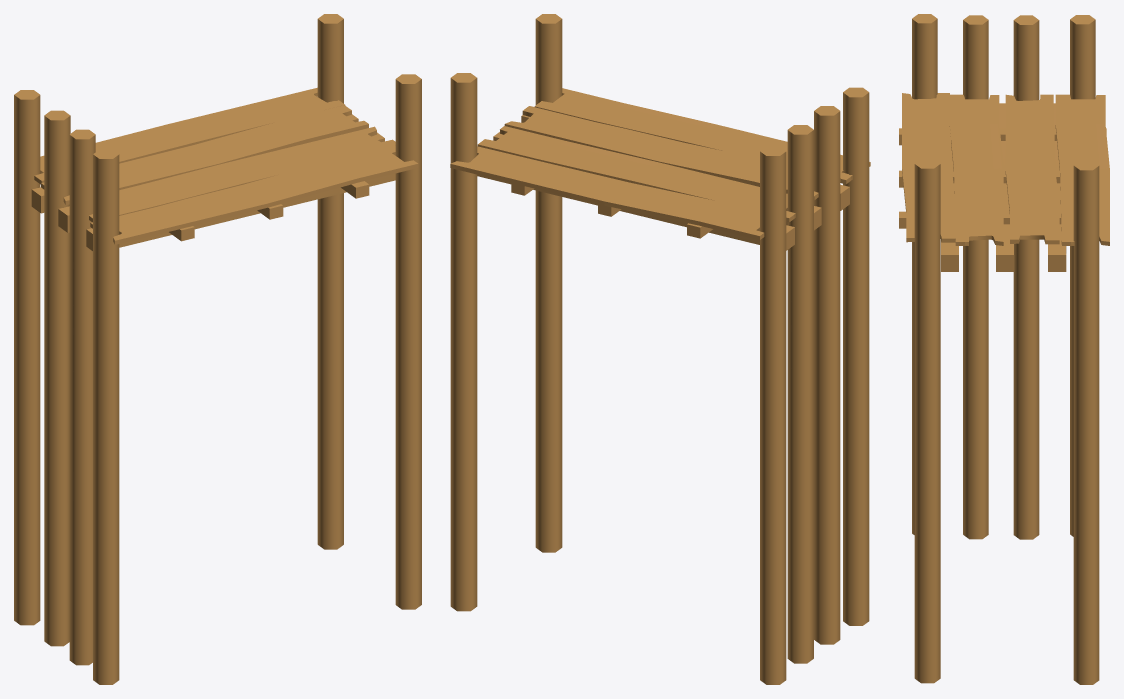
File: Dock_Open.fbx
The picture shows the model from 3 angles, left to right: view 1: azimuth 30°, elevation 25°; view 2: azimuth 150°, elevation 25°; view 3: azimuth 270°, elevation 25°; orthographic projection. The views are drawn at different scales.
Parts seen in each view (by area): view 1: Wooden Dock Piece (OPEN); view 2: Wooden Dock Piece (OPEN); view 3: Wooden Dock Piece (OPEN).
Part boxes in pixels (bbox=[...]): Wooden Dock Piece (OPEN): bbox=[14, 14, 421, 684]; Wooden Dock Piece (OPEN): bbox=[450, 14, 870, 684]; Wooden Dock Piece (OPEN): bbox=[899, 14, 1109, 684].
Size of the model in its own units: 344 by 529 by 196.
